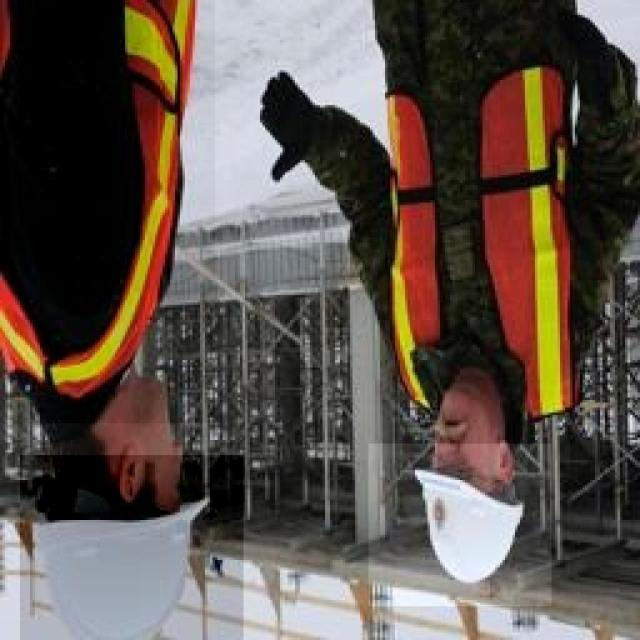Helmet: (20, 455, 244, 640), (368, 444, 552, 606)
Safety Vest: (365, 51, 610, 434), (0, 0, 215, 423)
